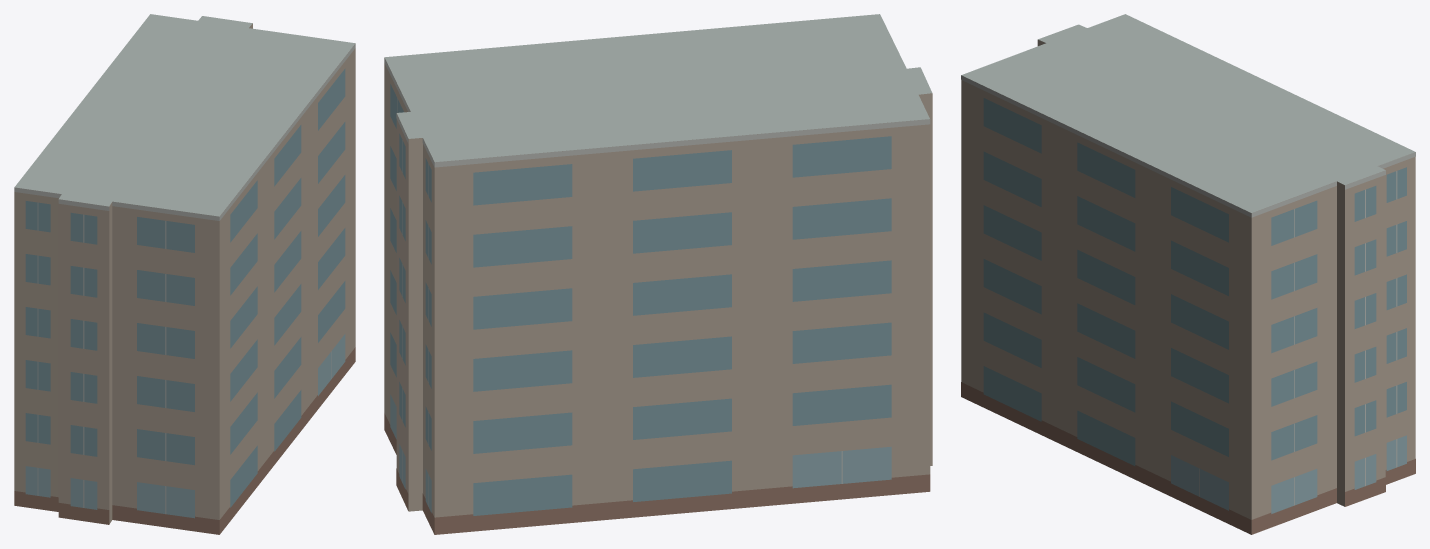
File: survey-upis-32913600.glb
3 views of the same model, side by side, from view 1: azimuth 30°, elevation 25°; view 2: azimuth 150°, elevation 25°; view 3: azimuth 270°, elevation 25° (orthographic). The views are drawn at different scales.
Parts seen in each view (by area): view 1: survey-upis-32913600.tmp; view 2: survey-upis-32913600.tmp; view 3: survey-upis-32913600.tmp.
Boxes of the visible parts, x1=… form: survey-upis-32913600.tmp: x1=14, y1=14, x2=355, y2=534; survey-upis-32913600.tmp: x1=384, y1=14, x2=932, y2=534; survey-upis-32913600.tmp: x1=961, y1=14, x2=1415, y2=534.
Bounding box in the file's own units: 22.7 × 17.1 × 21.9.
